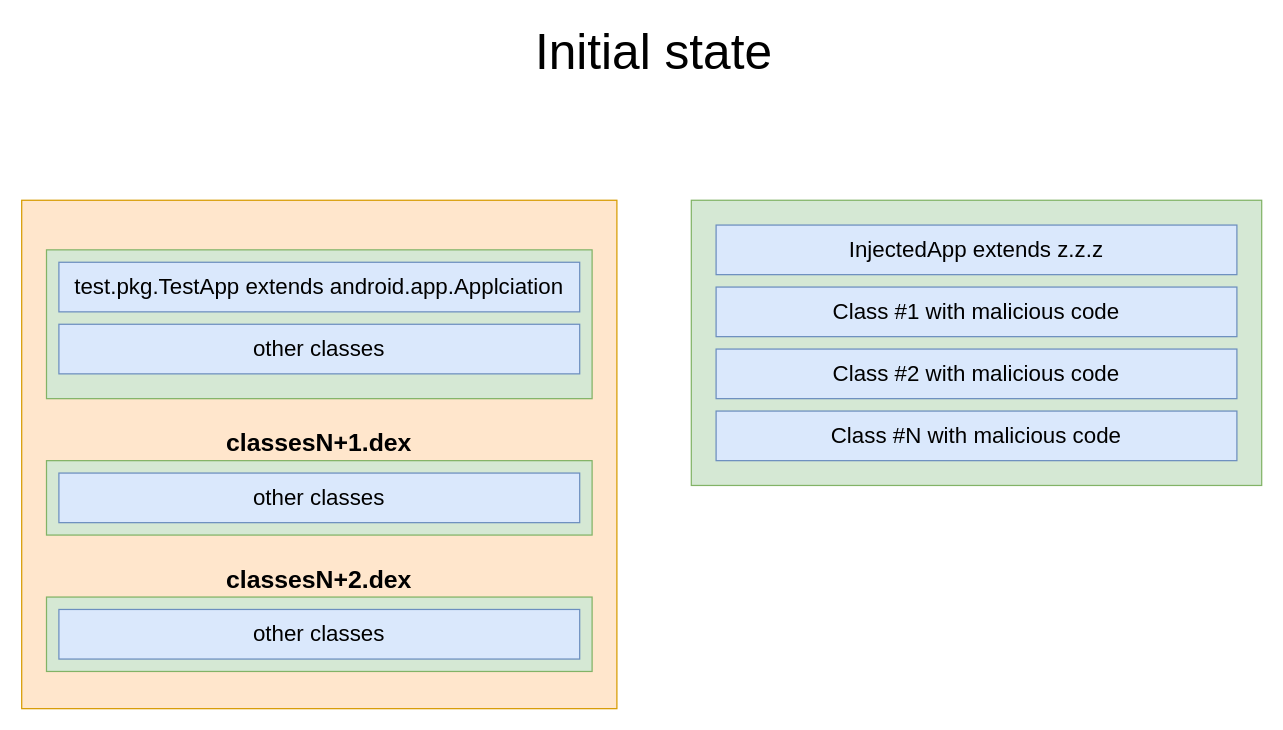
This 1283x730 diagram has some shape labels left out. Here are the shapes that lost their labels. From the top down, the box of each, then its label:
(45, 249, 592, 399): classesN.dex
(690, 199, 1262, 485): Malicious DEX
(20, 199, 617, 709): Original APK
